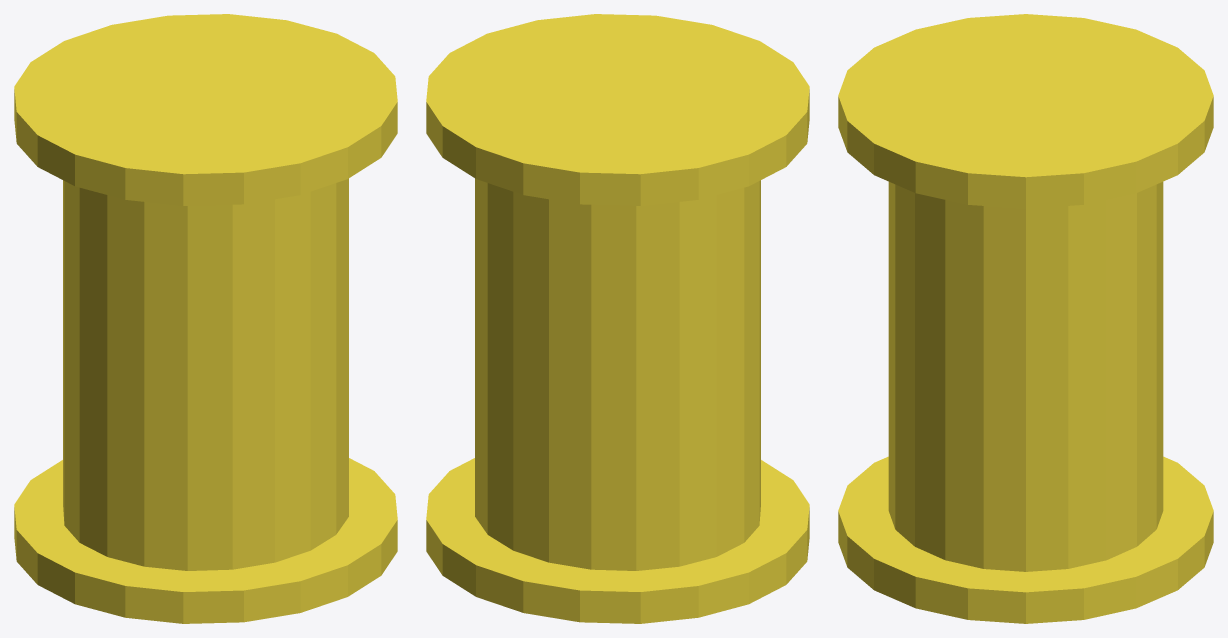
Rendered from can_yellow.gltf.
The picture shows the model from 3 angles, left to right: view 1: azimuth 30°, elevation 25°; view 2: azimuth 150°, elevation 25°; view 3: azimuth 270°, elevation 25°; orthographic projection.
Parts seen in each view (by area): view 1: Цилиндр (×3); view 2: Цилиндр (×3); view 3: Цилиндр (×3).
Part boxes in pixels (bbox=[...]): Цилиндр (×3): bbox=[14, 14, 397, 623]; Цилиндр (×3): bbox=[426, 14, 809, 623]; Цилиндр (×3): bbox=[838, 14, 1213, 623].
Size of the model in its own units: 1.97 by 2.51 by 1.91.
